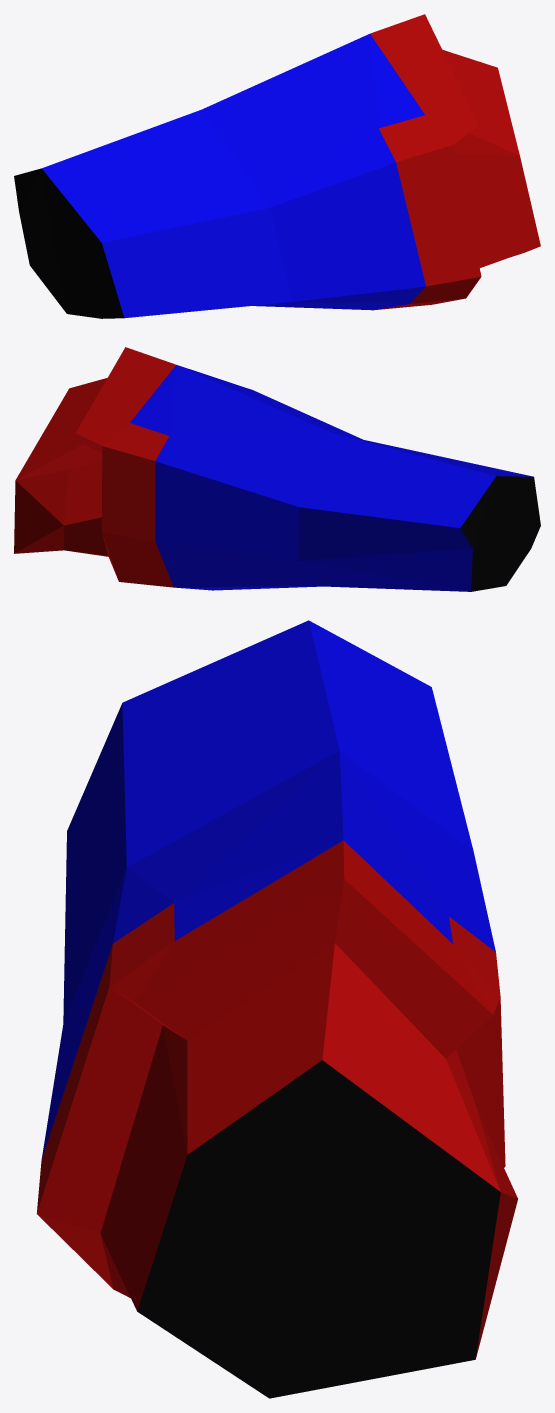
File: Chr_ArmLowerRight_Male_Static_05.fbx
3 views of the same model, one above another, from view 1: azimuth 30°, elevation 25°; view 2: azimuth 150°, elevation 25°; view 3: azimuth 270°, elevation 25° (orthographic). The views are drawn at different scales.
Parts seen in each view (by area): view 1: Chr_ArmLowerRight_Male_05; view 2: Chr_ArmLowerRight_Male_05; view 3: Chr_ArmLowerRight_Male_05.
Boxes of the visible parts, x1,y1,x2,y2 form: Chr_ArmLowerRight_Male_05: (14, 14, 540, 318); Chr_ArmLowerRight_Male_05: (14, 347, 540, 591); Chr_ArmLowerRight_Male_05: (36, 620, 517, 1398).
Bounding box in the file's own units: 28.49 × 15.44 × 13.48.
